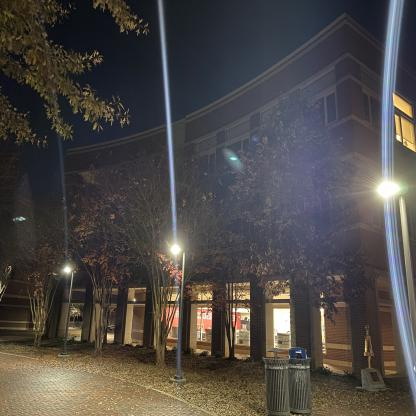eb2: (66, 54, 407, 366)
